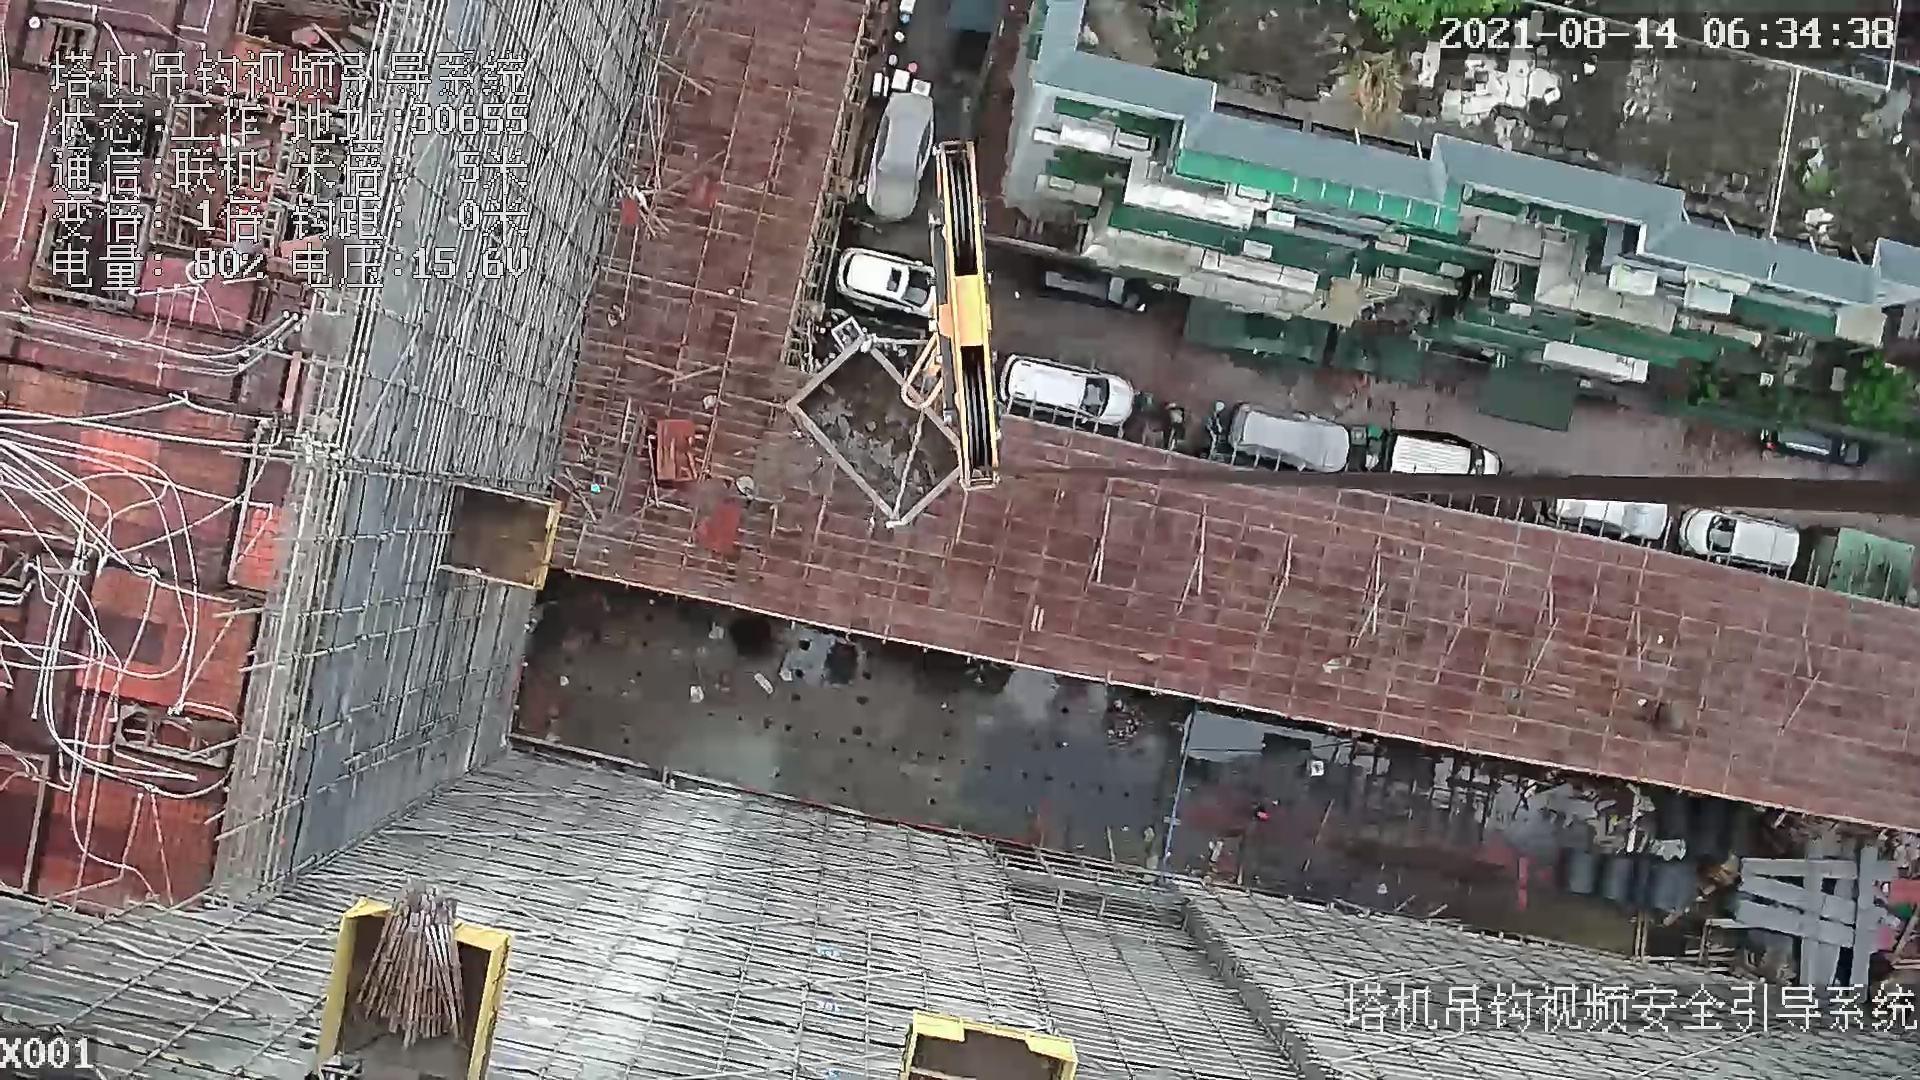hook: (886, 137, 996, 491)
hopper: (777, 331, 971, 546)
scaffold: (356, 891, 481, 1054)
